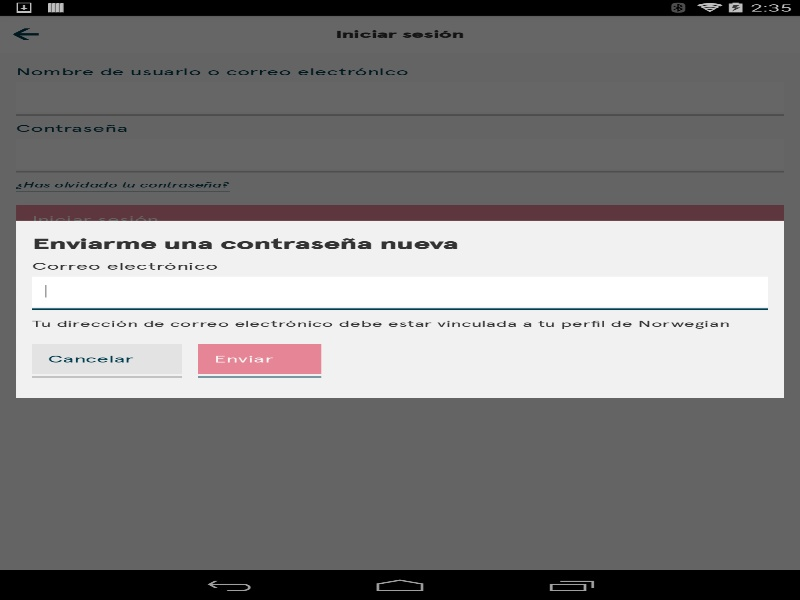Input: (32, 276, 768, 306)
